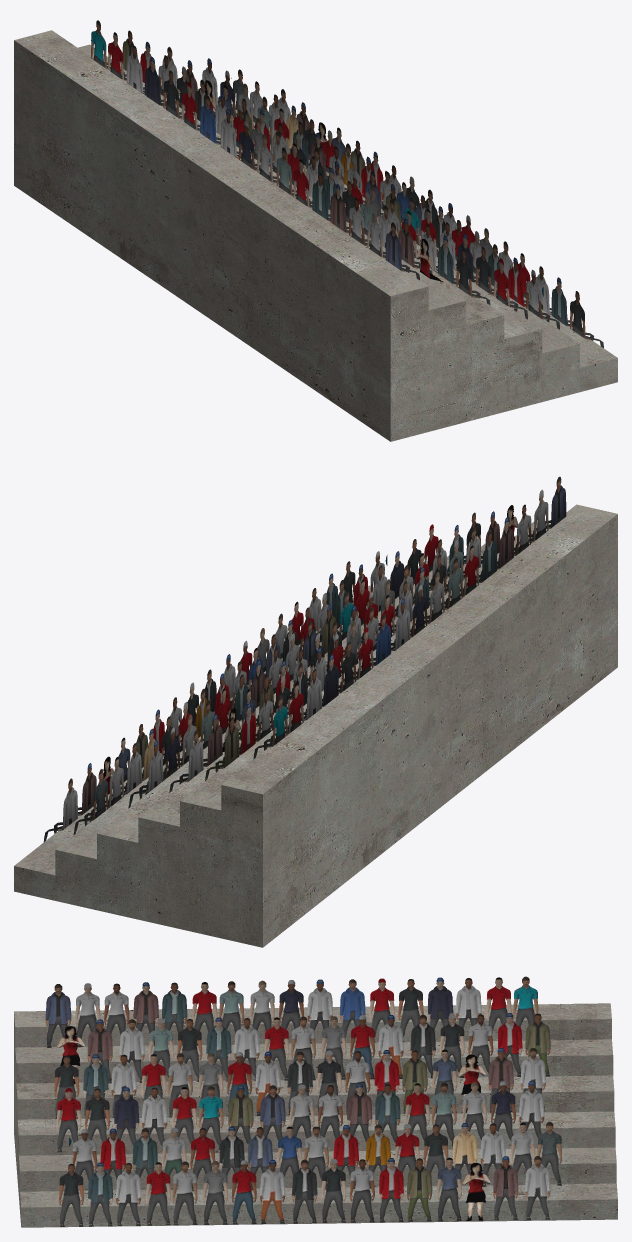
File: khangia.fbx
The picture shows the model from 3 angles, top to bottom: view 1: azimuth 30°, elevation 25°; view 2: azimuth 150°, elevation 25°; view 3: azimuth 270°, elevation 25°; orthographic projection. The views are drawn at different scales.
Parts seen in each view (by area): view 1: khangia; view 2: khangia; view 3: khangia.
Boxes of the visible parts, x1,y1,x2,y2 form: khangia: [14, 20, 617, 441]; khangia: [14, 476, 617, 947]; khangia: [14, 976, 617, 1227].
Bounding box in the file's own units: 773 × 549 × 1848.
